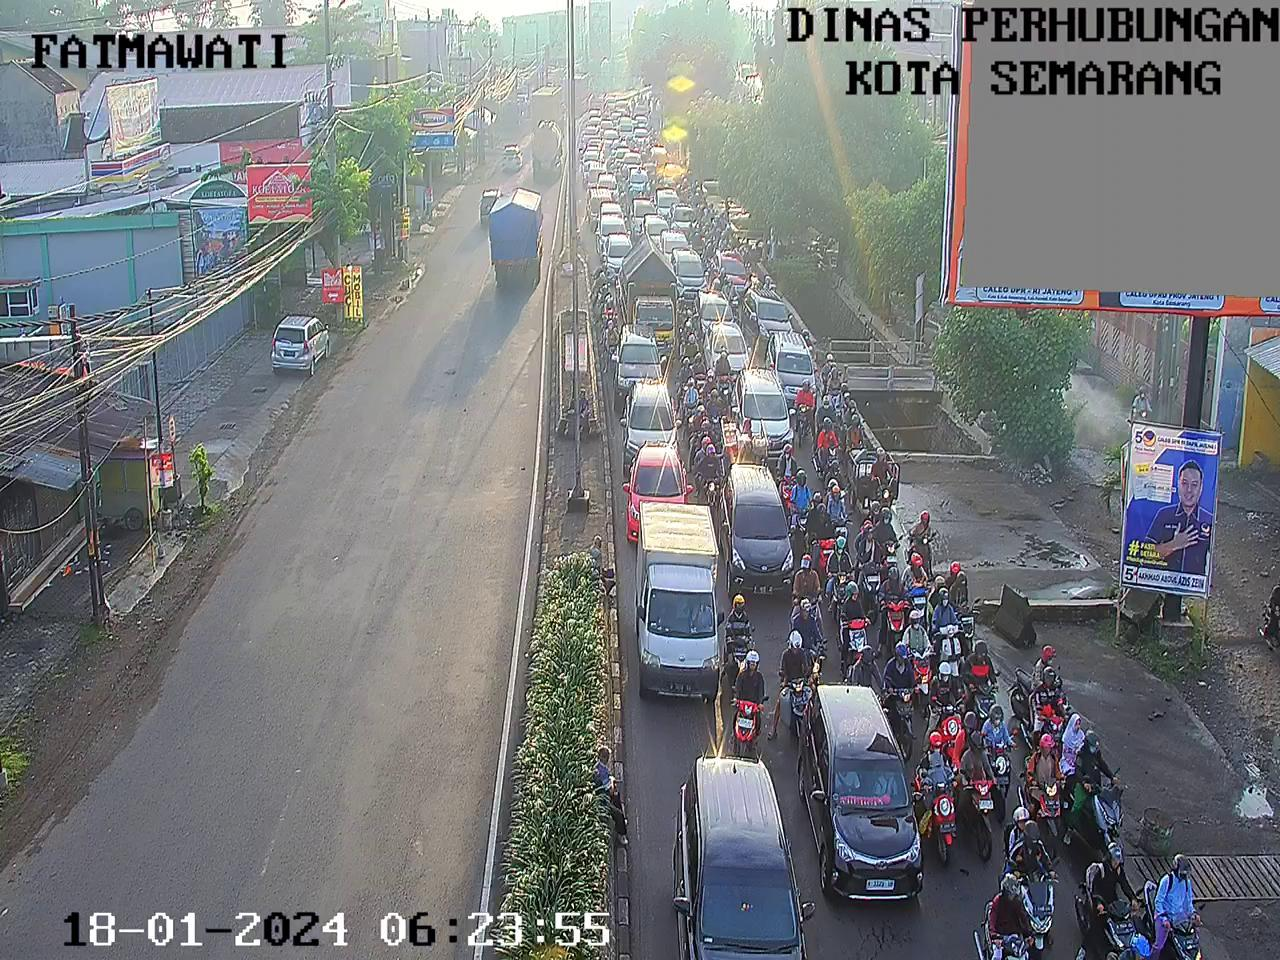car: (672, 746, 815, 960), (801, 673, 930, 908), (622, 492, 733, 707), (714, 448, 796, 603), (621, 435, 695, 552), (720, 358, 797, 466), (618, 376, 687, 473), (606, 317, 672, 405), (760, 324, 822, 409), (701, 319, 755, 388), (747, 286, 794, 354), (669, 245, 710, 299), (718, 245, 753, 299), (688, 286, 731, 326), (596, 230, 632, 270), (586, 187, 625, 221), (627, 197, 660, 232), (657, 228, 689, 262), (652, 184, 683, 218), (665, 202, 699, 229), (639, 211, 667, 237), (595, 212, 623, 236), (648, 142, 671, 166), (628, 170, 652, 193), (662, 160, 684, 184), (620, 151, 646, 170), (610, 145, 632, 167), (617, 113, 634, 140), (584, 161, 602, 187), (580, 124, 601, 143), (609, 99, 631, 112), (633, 126, 649, 143), (597, 172, 614, 188), (584, 145, 599, 161), (606, 130, 619, 148), (634, 104, 652, 117), (601, 117, 614, 132), (634, 112, 645, 128), (588, 110, 605, 118), (589, 114, 599, 124)
motorcycle: (1056, 706, 1129, 869), (1071, 835, 1151, 960), (1140, 847, 1219, 960), (995, 801, 1054, 949), (947, 705, 993, 878), (910, 728, 966, 860), (1012, 720, 1068, 844), (979, 866, 1042, 960), (773, 623, 817, 745), (923, 653, 968, 773), (926, 569, 968, 693), (1013, 646, 1065, 739), (892, 603, 938, 705), (779, 554, 831, 643), (727, 651, 772, 754), (976, 703, 1018, 806), (849, 506, 887, 615), (884, 640, 917, 761), (779, 584, 831, 661), (720, 588, 761, 684), (1021, 670, 1062, 763), (873, 561, 915, 647), (945, 560, 987, 647), (833, 574, 875, 657), (869, 495, 909, 583), (958, 638, 998, 723), (843, 442, 894, 504), (798, 483, 833, 572), (894, 546, 932, 621), (910, 499, 949, 566), (1256, 558, 1280, 662), (786, 462, 809, 555), (841, 634, 884, 683), (825, 538, 853, 606), (816, 412, 840, 489), (774, 443, 800, 510), (1115, 923, 1162, 960), (696, 437, 722, 506), (792, 378, 817, 448), (827, 477, 849, 558), (672, 375, 705, 421), (682, 401, 706, 464), (596, 313, 621, 362), (676, 317, 699, 369), (596, 282, 625, 323), (699, 380, 728, 419), (699, 421, 722, 465), (836, 379, 859, 421), (719, 279, 742, 317), (844, 409, 864, 449), (711, 350, 735, 381), (594, 257, 614, 294), (822, 353, 840, 396), (674, 353, 697, 384), (815, 386, 835, 419), (714, 263, 733, 294), (699, 240, 717, 272), (759, 268, 779, 293), (677, 301, 690, 338), (736, 235, 752, 264), (803, 324, 817, 353), (691, 230, 707, 255), (723, 216, 734, 248), (695, 202, 710, 223), (711, 223, 722, 243), (706, 203, 718, 221), (680, 192, 693, 208), (689, 181, 701, 198), (616, 174, 627, 192), (656, 162, 664, 183), (640, 140, 650, 156), (629, 136, 639, 150), (620, 193, 627, 212), (651, 127, 658, 145), (577, 149, 583, 167), (608, 158, 615, 171), (638, 90, 647, 100), (681, 175, 686, 193), (617, 162, 621, 170)
truck: (616, 225, 677, 350)
